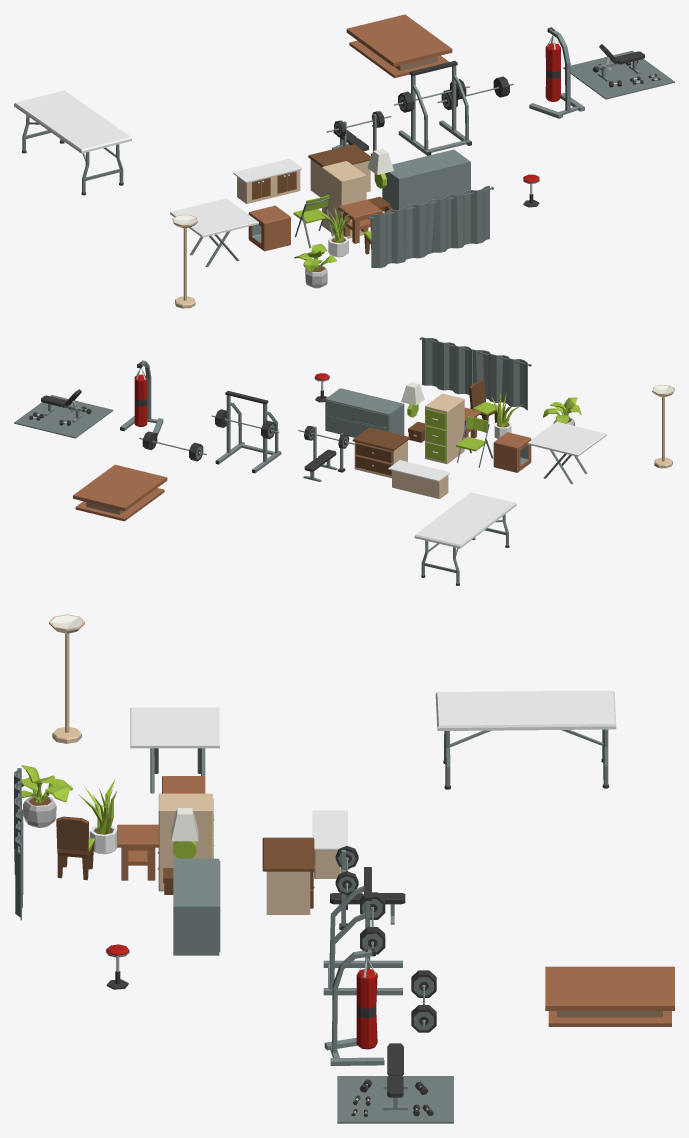
File: furniture husky.fbx
3 renders of one model, top to bottom at view 1: azimuth 30°, elevation 25°; view 2: azimuth 150°, elevation 25°; view 3: azimuth 270°, elevation 25°, orthographic. The views are drawn at different scales.
Visible parts, largest first — view 1: House.Curtains, GarageShelf.009, FancyTable.006, Credenza, WorkoutMachine.InclineBench, WorkoutMachine.SquatRack, Kitchen.Island, Foldable.Table, FilingCabinet, WorkoutMachine.PBag, SideTable2, Dresser (+8 smaller); view 2: House.Curtains, GarageShelf.009, FancyTable.006, Credenza, WorkoutMachine.InclineBench, FilingCabinet, Dresser, WorkoutMachine.SquatRack, Foldable.Table, Kitchen.Island, SideTable2, WorkoutMachine.PBag (+8 smaller); view 3: GarageShelf.009, FancyTable.006, WorkoutMachine.InclineBench, Credenza, Foldable.Table, Dresser, WorkoutMachine.SquatRack, WorkoutMachine.PBag, FilingCabinet, Kitchen.Island, GrassPlant2, SideTable (+8 smaller).
Part boxes in pixels (<box>): House.Curtains: <box>368,185,493,268</box>; GarageShelf.009: <box>14,90,131,195</box>; FancyTable.006: <box>346,14,452,78</box>; Credenza: <box>382,149,470,209</box>; WorkoutMachine.InclineBench: <box>563,44,674,99</box>; WorkoutMachine.SquatRack: <box>394,61,471,155</box>; Kitchen.Island: <box>233,158,302,203</box>; Foldable.Table: <box>170,198,258,266</box>; FilingCabinet: <box>322,161,366,238</box>; WorkoutMachine.PBag: <box>529,27,584,118</box>; SideTable2: <box>248,205,290,251</box>; Dresser: <box>308,144,370,197</box>; House.Curtains: <box>419,337,531,410</box>; GarageShelf.009: <box>414,492,516,585</box>; FancyTable.006: <box>73,464,167,521</box>; Credenza: <box>325,388,404,437</box>; WorkoutMachine.InclineBench: <box>14,389,113,438</box>; FilingCabinet: <box>425,393,464,464</box>; Dresser: <box>352,427,410,478</box>; WorkoutMachine.SquatRack: <box>211,391,281,473</box>; Foldable.Table: <box>527,421,606,484</box>; Kitchen.Island: <box>388,460,449,498</box>; SideTable2: <box>493,432,531,472</box>; WorkoutMachine.PBag: <box>120,360,163,435</box>; GarageShelf.009: <box>435,690,616,789</box>; FancyTable.006: <box>545,966,674,1026</box>; WorkoutMachine.InclineBench: <box>337,1043,453,1123</box>; Credenza: <box>173,858,220,955</box>; Foldable.Table: <box>130,707,219,793</box>; Dresser: <box>262,837,314,914</box>; WorkoutMachine.SquatRack: <box>323,867,402,995</box>; WorkoutMachine.PBag: <box>324,948,384,1065</box>; FilingCabinet: <box>158,793,214,891</box>; Kitchen.Island: <box>312,810,347,878</box>; GrassPlant2: <box>21,765,72,827</box>; SideTable: <box>117,824,159,880</box>.
Size of the model in its own units: 2952 by 430 by 2053.
